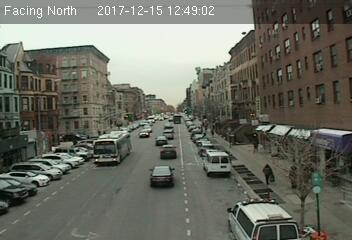bus: (93, 130, 133, 167)
car: (147, 165, 176, 190), (159, 145, 177, 160), (162, 130, 175, 139), (154, 136, 167, 144), (138, 129, 149, 138)
pedestrian: (262, 162, 277, 185)
police: (228, 198, 302, 240)
truck: (204, 151, 232, 175)
